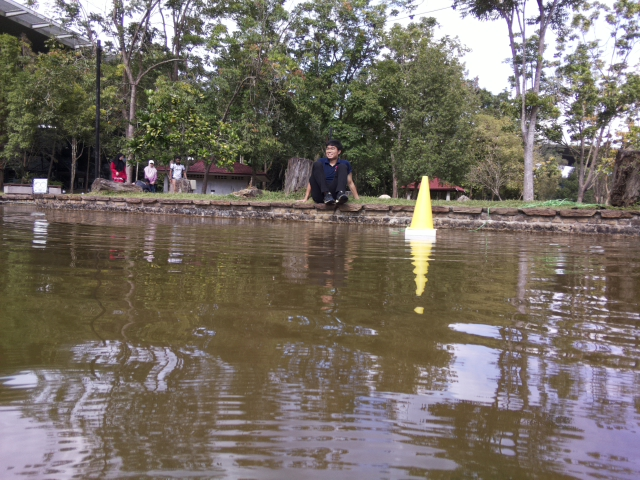checkpoint: (404, 174, 438, 241)
